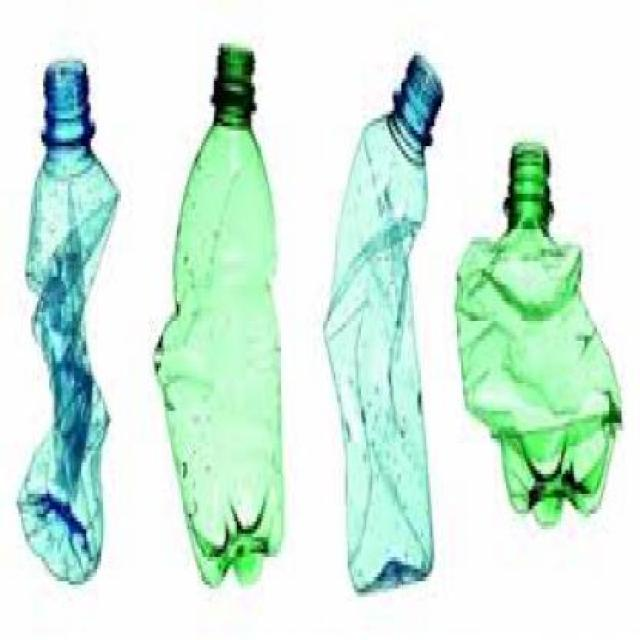PLASTIC: (150, 39, 282, 581), (322, 43, 440, 589), (455, 142, 622, 522), (14, 59, 118, 581)
